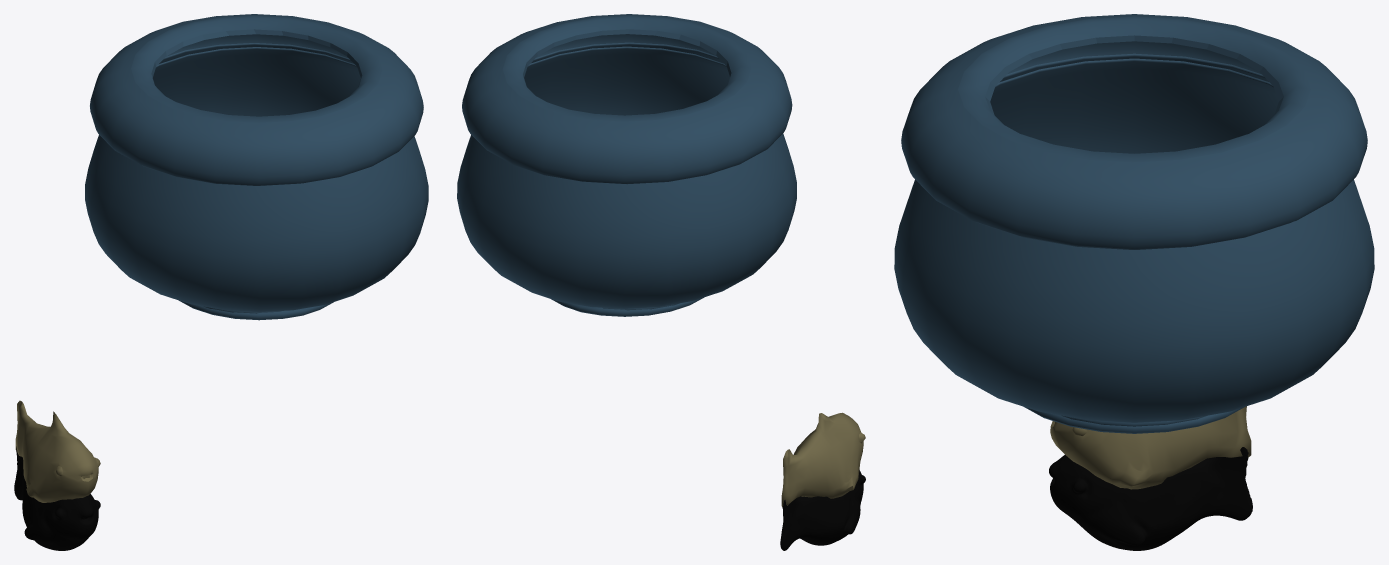
The model's file is FishandBowl.obj.
The picture shows the model from 3 angles, left to right: view 1: azimuth 30°, elevation 25°; view 2: azimuth 150°, elevation 25°; view 3: azimuth 270°, elevation 25°; orthographic projection. The views are drawn at different scales.
Visible parts, largest first — view 1: FishMesh1, GoldfishMesh; view 2: FishMesh1, GoldfishMesh; view 3: FishMesh1, GoldfishMesh.
Part boxes in pixels (bbox=[...]): FishMesh1: bbox=[15, 14, 428, 502]; GoldfishMesh: bbox=[14, 446, 100, 550]; FishMesh1: bbox=[457, 14, 865, 506]; GoldfishMesh: bbox=[780, 469, 865, 550]; FishMesh1: bbox=[894, 14, 1374, 489]; GoldfishMesh: bbox=[1049, 447, 1252, 550].
Size of the model in its own units: 35.72 by 38.9 by 28.53.
